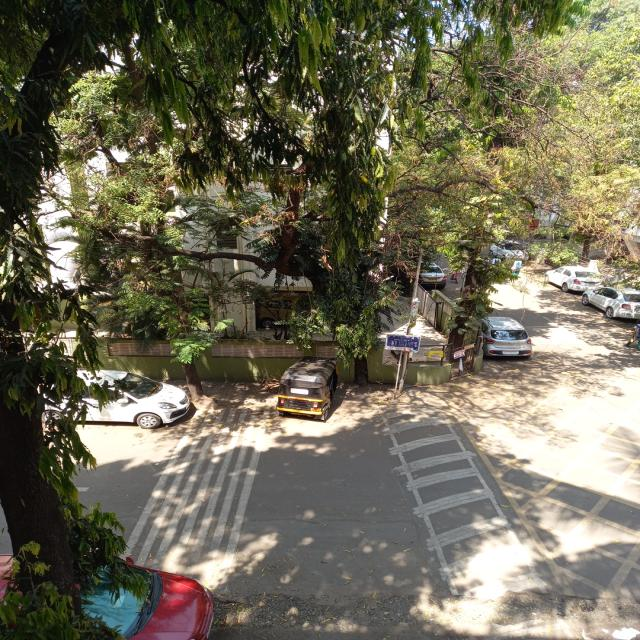Autorickshaw: (259, 351, 351, 428)
Car: (0, 529, 248, 640), (23, 359, 208, 438), (470, 310, 538, 364), (578, 284, 640, 328), (538, 255, 607, 293), (479, 233, 539, 267), (404, 256, 454, 288)
